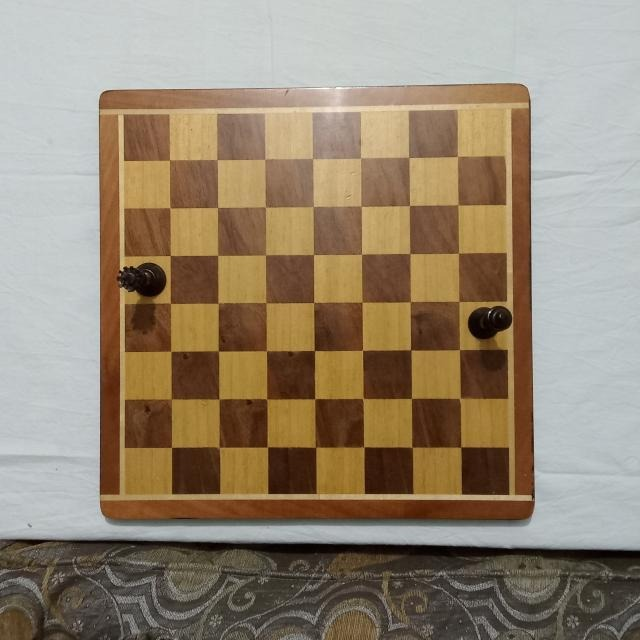black-king: (466, 304, 513, 339)
black-queen: (113, 260, 166, 298)
